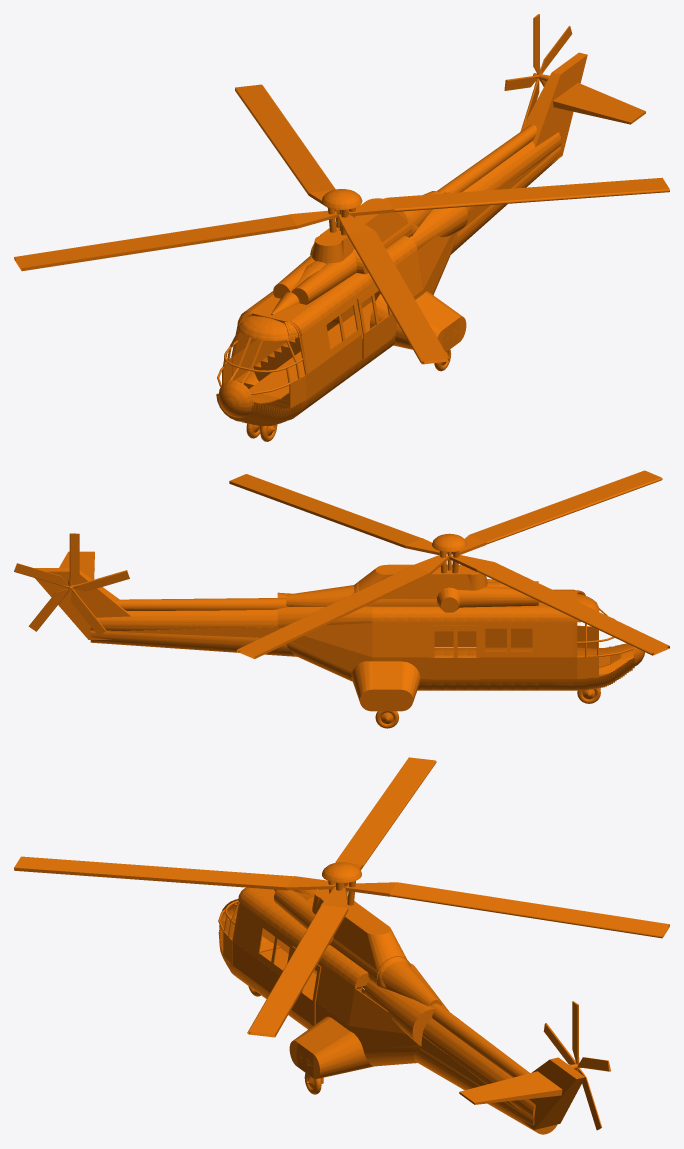
File: 04-Helicopter.glb
3 renders of one model, top to bottom at view 1: azimuth 30°, elevation 25°; view 2: azimuth 150°, elevation 25°; view 3: azimuth 270°, elevation 25°, orthographic. The views are drawn at different scales.
Parts seen in each view (by area): view 1: WTE_HELICOPTER$0$helicopter.001; view 2: WTE_HELICOPTER$0$helicopter.001; view 3: WTE_HELICOPTER$0$helicopter.001.
Part boxes in pixels (x1,y1,x2,y2): WTE_HELICOPTER$0$helicopter.001: (14,14,669,441); WTE_HELICOPTER$0$helicopter.001: (14,470,669,728); WTE_HELICOPTER$0$helicopter.001: (14,757,669,1134).
Bounding box in the file's own units: 11.89 × 3.48 × 10.37.
